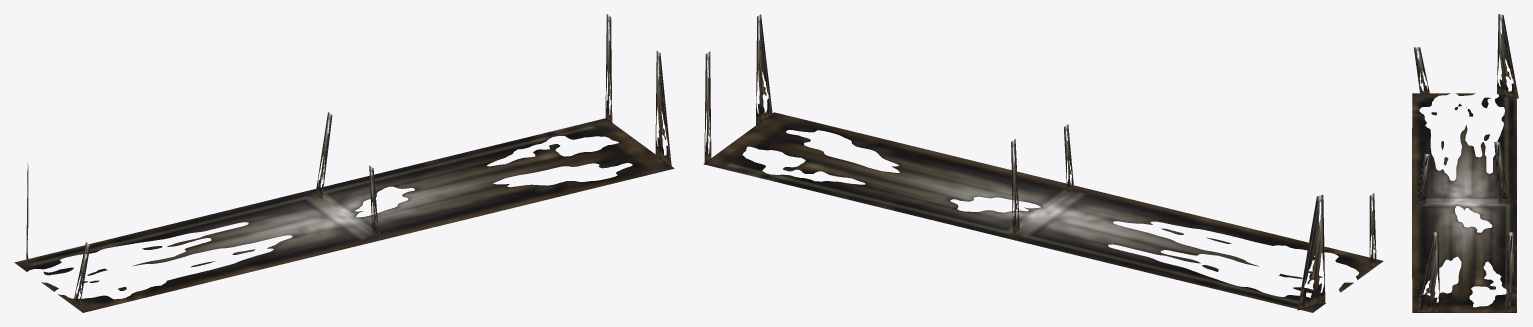
The model's file is munitionscrates_dam.glb.
3 renders of one model, left to right at view 1: azimuth 30°, elevation 25°; view 2: azimuth 150°, elevation 25°; view 3: azimuth 270°, elevation 25°, orthographic. The views are drawn at different scales.
Visible parts, largest first — view 1: ammocrates_damaged; view 2: ammocrates_damaged; view 3: ammocrates_damaged.
Part boxes in pixels (x1,y1,x2,y2): ammocrates_damaged: (14, 14, 674, 312); ammocrates_damaged: (703, 14, 1383, 312); ammocrates_damaged: (1412, 14, 1518, 312).
Size of the model in its own units: 8.45 by 1.44 by 1.74.
1 material, 1 textured.
